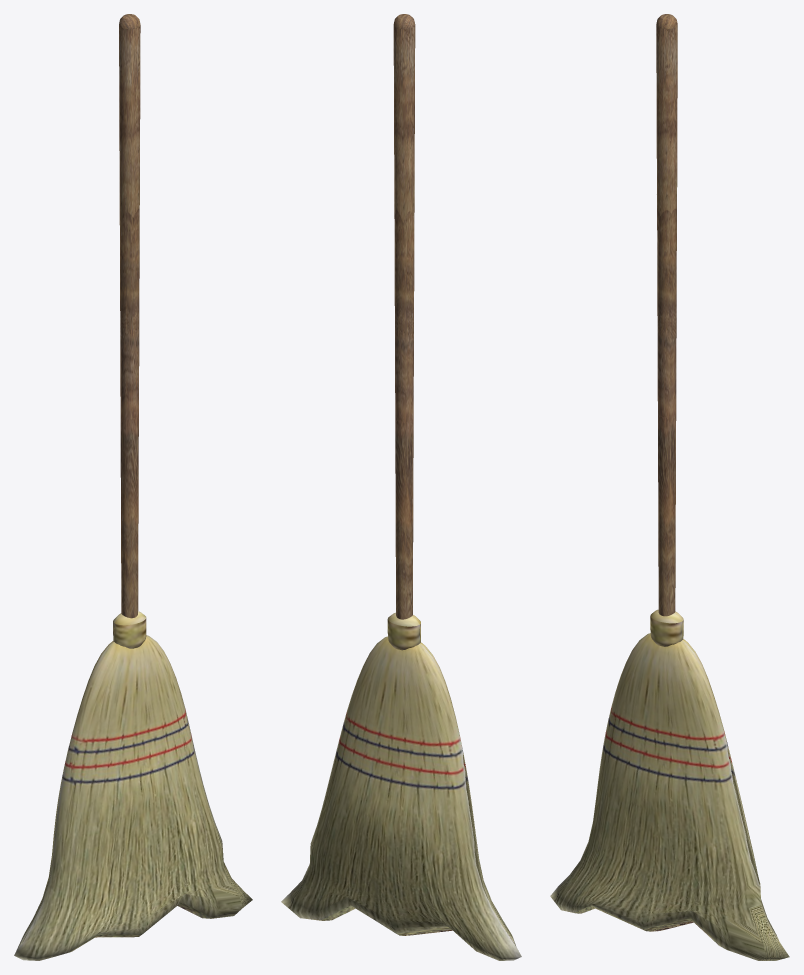
The model's file is Broom Ragdoll.fbx.
3 renders of one model, left to right at view 1: azimuth 30°, elevation 25°; view 2: azimuth 150°, elevation 25°; view 3: azimuth 330°, elevation 25°, orthographic.
Visible parts, largest first — view 1: Broom Head Ragdoll, Broom.002 Ragdoll, Broom.003 Ragdoll, Broom.004 Ragdoll; view 2: Broom Head Ragdoll, Broom.002 Ragdoll, Broom.003 Ragdoll, Broom.004 Ragdoll; view 3: Broom Head Ragdoll, Broom.002 Ragdoll, Broom.003 Ragdoll, Broom.004 Ragdoll.
Boxes of the visible parts, bbox=[...] form: Broom Head Ragdoll: bbox=[14, 611, 252, 960]; Broom.002 Ragdoll: bbox=[119, 14, 140, 220]; Broom.003 Ragdoll: bbox=[119, 197, 139, 422]; Broom.004 Ragdoll: bbox=[120, 416, 138, 618]; Broom Head Ragdoll: bbox=[281, 612, 521, 960]; Broom.002 Ragdoll: bbox=[393, 14, 415, 222]; Broom.003 Ragdoll: bbox=[394, 210, 414, 423]; Broom.004 Ragdoll: bbox=[395, 419, 413, 619]; Broom Head Ragdoll: bbox=[550, 609, 789, 960]; Broom.002 Ragdoll: bbox=[656, 14, 677, 216]; Broom.003 Ragdoll: bbox=[657, 208, 676, 423]; Broom.004 Ragdoll: bbox=[658, 413, 676, 616].
Size of the model in its own units: 80.39 by 295 by 24.39.
